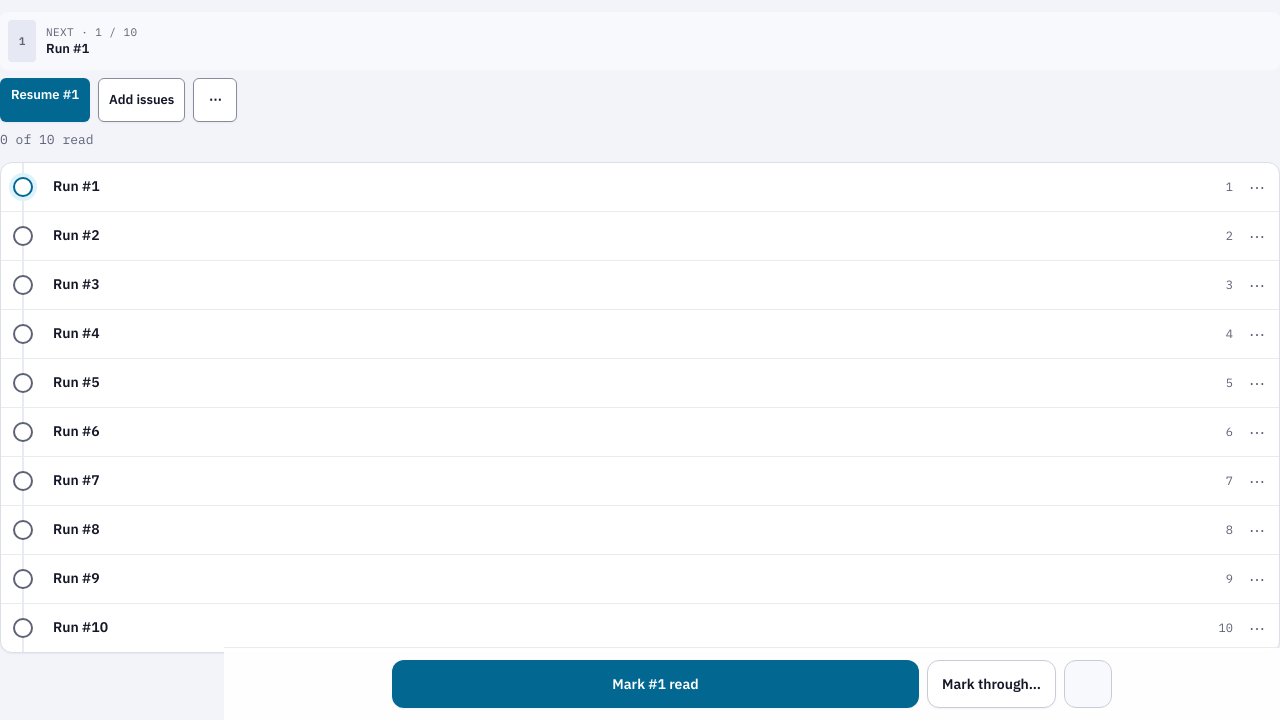
Test case: the range sheet (UX floor, R1-11) › Esc closes it, wakes the page and returns focus to the control that opened it
The image size is (1280, 720).
Click the button with class "rowmenu-btn" in the row of "Run #4": coordinates (1257, 334) [1241, 318, 1273, 350]
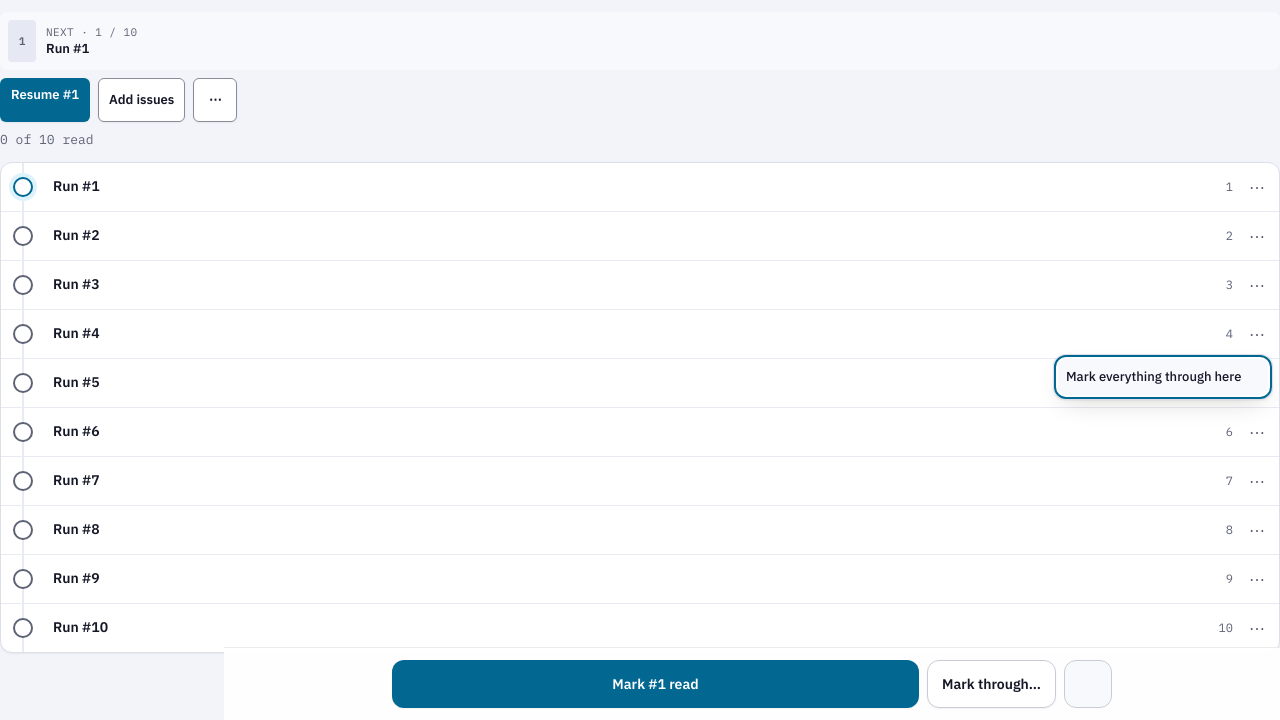
Click the menu item "Mark everything through here": coordinates (1163, 376) [1058, 358, 1268, 394]
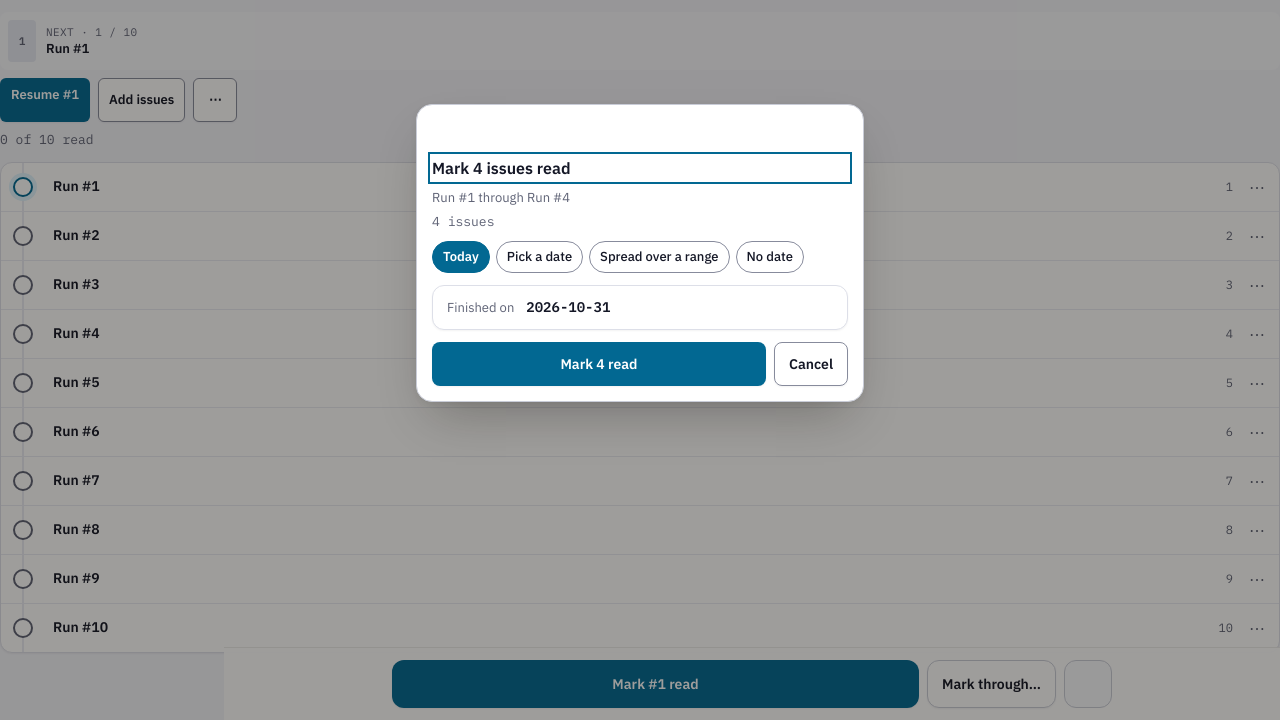
Check: the dialog is shown, box [416, 104, 864, 402]
Press Escape in the heading "Mark 4 issues read", box [432, 158, 570, 178]
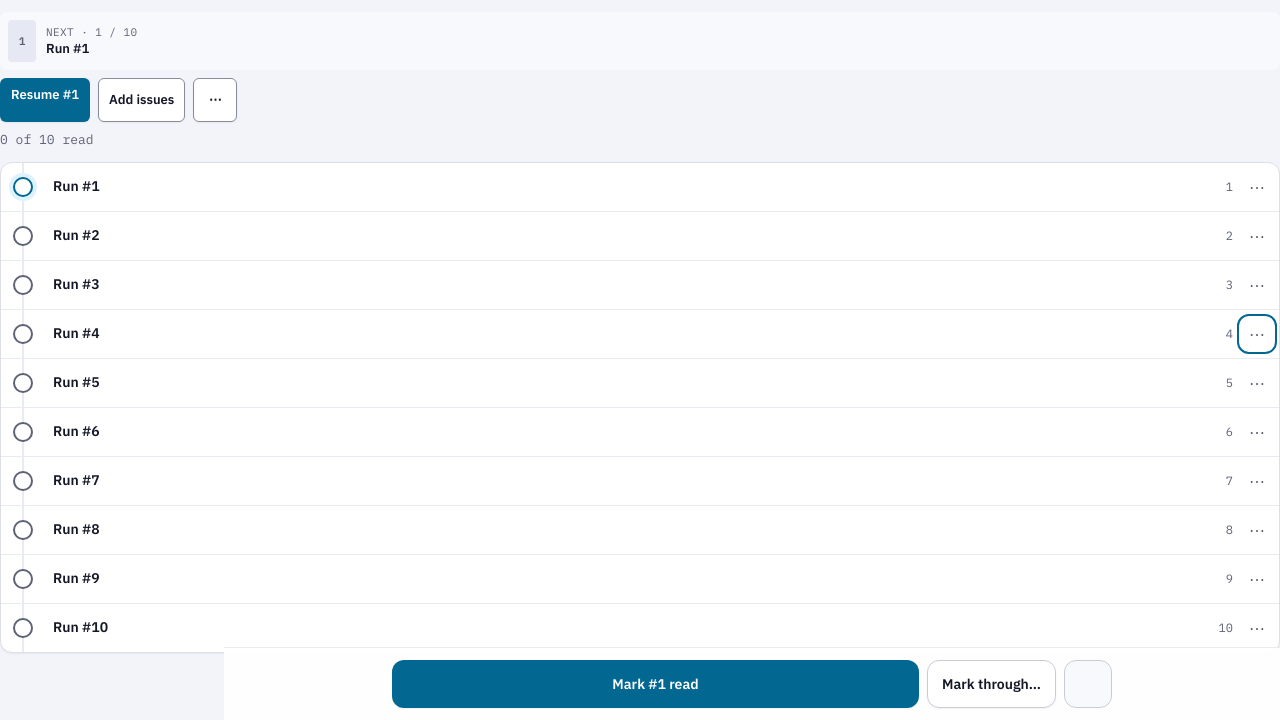
Check: the dialog is gone
